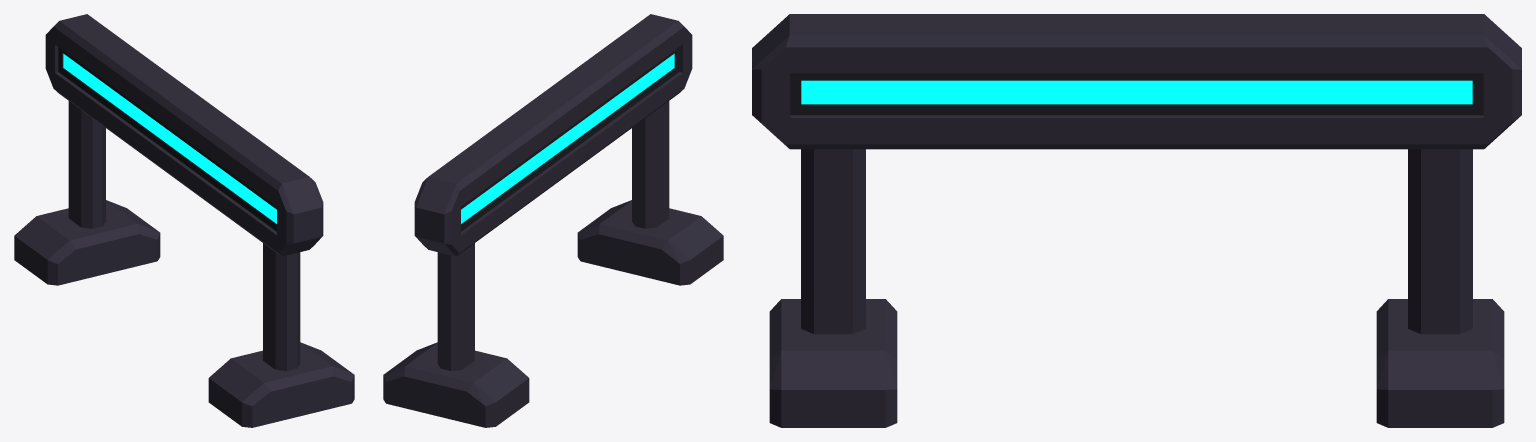
The model's file is SM_Barrier_02.fbx.
The picture shows the model from 3 angles, left to right: view 1: azimuth 30°, elevation 25°; view 2: azimuth 150°, elevation 25°; view 3: azimuth 270°, elevation 25°; orthographic projection. The views are drawn at different scales.
Visible parts, largest first — view 1: SM_Barrier_02; view 2: SM_Barrier_02; view 3: SM_Barrier_02.
Boxes of the visible parts, x1,y1,x2,y2 form: SM_Barrier_02: (14, 14, 354, 427); SM_Barrier_02: (383, 14, 723, 427); SM_Barrier_02: (752, 14, 1521, 427).
Size of the model in its own units: 39.58 by 77.46 by 150.
